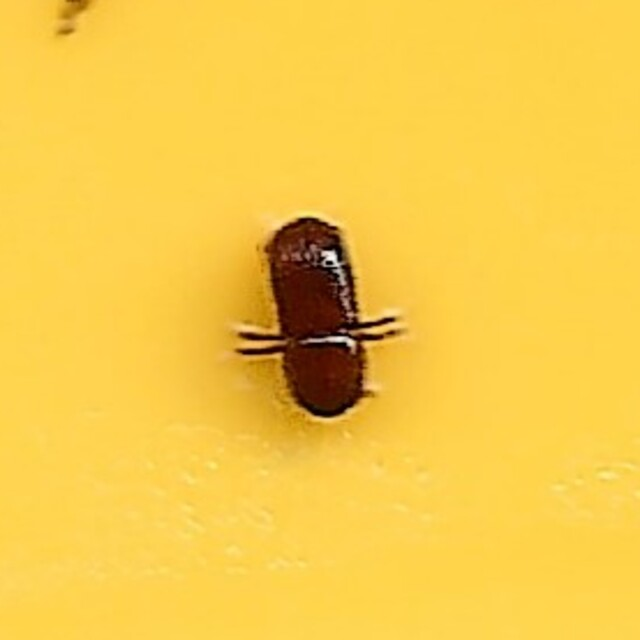Coleoptera: (231, 204, 409, 436)
